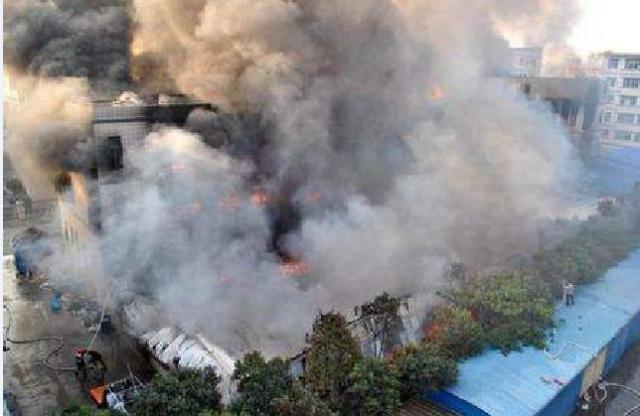smoke: (256, 3, 574, 168), (101, 157, 286, 343), (3, 0, 251, 104), (306, 167, 464, 307), (472, 165, 598, 267), (3, 108, 87, 205)
